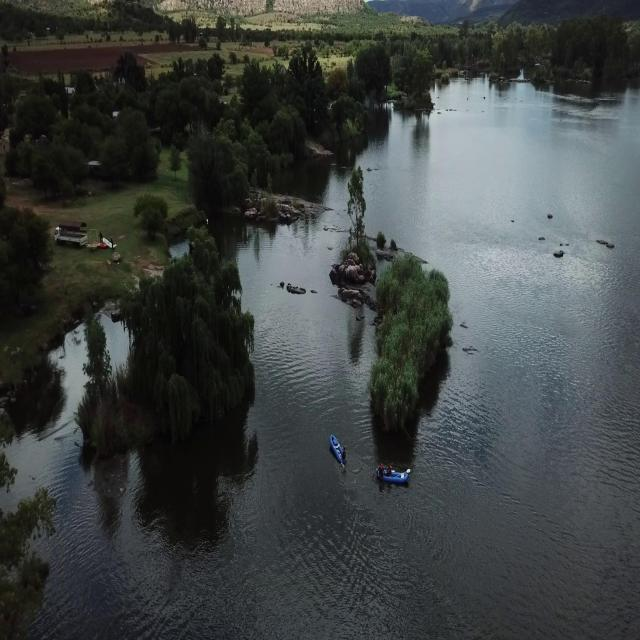kayak: (376, 457, 412, 491), (326, 430, 349, 468)
